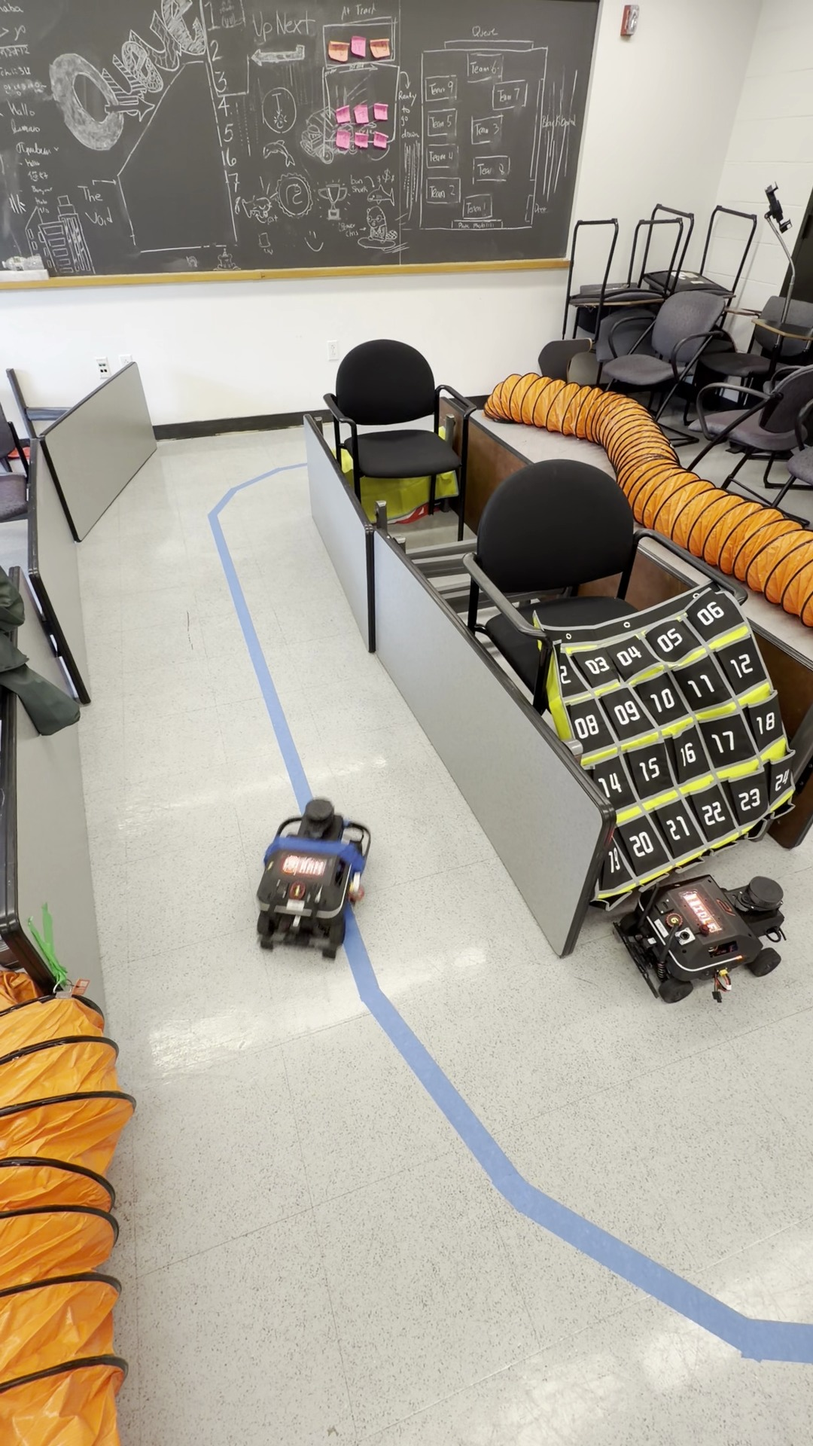racecar: (612, 873, 787, 1002), (256, 802, 369, 957)
